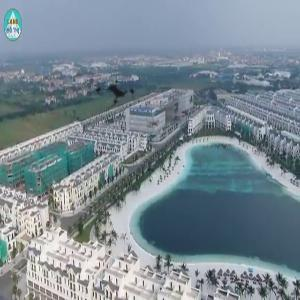drone: (77, 53, 157, 133)
